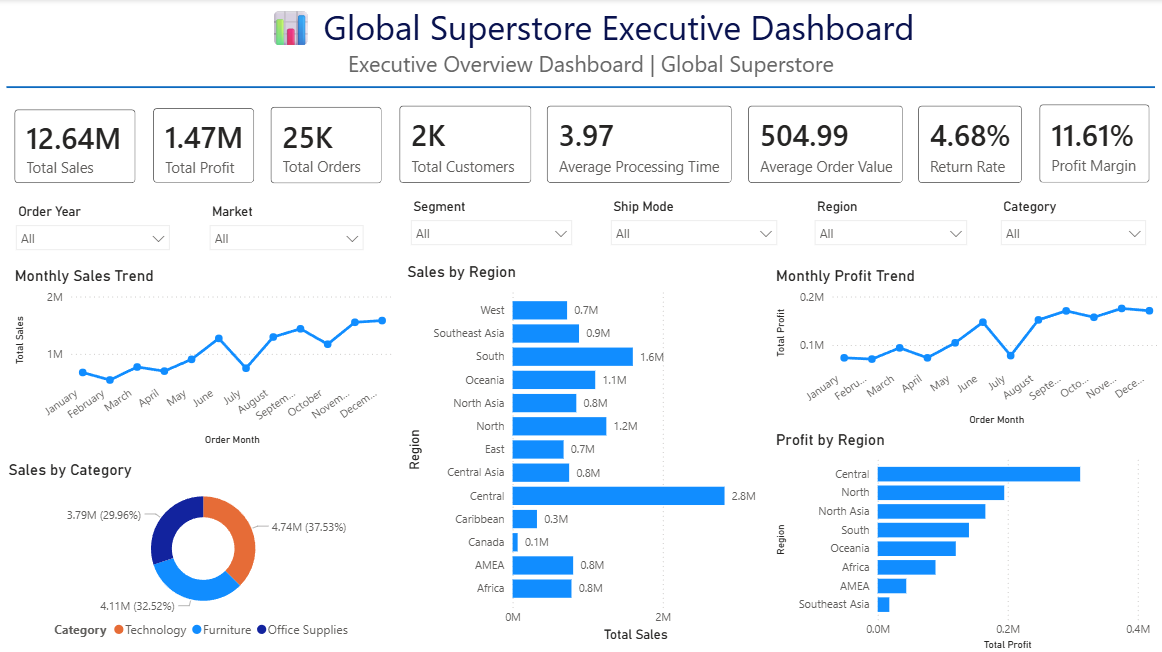

What the dashboard file says about the page in this screenshot:
{"tool":"powerbi","page":{"name":"Executive Dashboard","canvas":[1280,720],"ordinal":0},"visuals":[{"type":"textbox","box":[19.2,0,1261.1,96.1],"z":0},{"type":"shape","box":[8.2,22,1261.1,149.6],"z":1000},{"type":"cardVisual","fields":{"Data":["Orders.Total Sales"]},"box":[0,104.3,167.4,115.3],"z":2000},{"type":"cardVisual","fields":{"Data":["Orders.Total Profit"]},"box":[152.3,102.9,145.5,116.6],"z":3000},{"type":"cardVisual","fields":{"Data":["Orders.Total Orders"]},"box":[281.3,101.5,156.4,118],"z":4000},{"type":"cardVisual","fields":{"Data":["Orders.Total Customers"]},"box":[422.6,100.2,179.8,119.4],"z":5000},{"type":"cardVisual","fields":{"Data":["Orders.Profit Margin"]},"box":[1125.2,98.8,155.1,120.8],"z":6000},{"type":"cardVisual","fields":{"Data":["Orders.Average Order Value"]},"box":[805.5,100.2,204.5,119.4],"z":7000},{"type":"cardVisual","fields":{"Data":["Orders.Return Rate"]},"box":[992.1,100.2,148.2,119.4],"z":8000},{"type":"cardVisual","fields":{"Data":["Orders.Average Processing Time"]},"box":[584.6,100.2,237.4,119.4],"z":9000},{"type":"slicer","fields":{"Values":["Orders.Order Year"]},"box":[8.2,219.6,189.4,75.5],"z":10000},{"type":"slicer","fields":{"Values":["Orders.Market"]},"box":[220.9,219.6,189.4,74.1],"z":11000},{"type":"slicer","fields":{"Values":["Orders.Region"]},"box":[885.1,214.1,188,81],"z":12000},{"type":"slicer","fields":{"Values":["Orders.Segment"]},"box":[441.9,214.1,197.6,75.5],"z":13000},{"type":"slicer","fields":{"Values":["Orders.Category"]},"box":[1089.5,214.1,179.8,81],"z":14000},{"type":"slicer","fields":{"Values":["Orders.Ship Mode"]},"box":[661.4,214.1,203.1,75.5],"z":15000},{"type":"lineChart","title":"Monthly Sales Trend","fields":{"Category":["Orders.Order Month"],"Y":["Orders.Total Sales"]},"box":[12.3,293.7,425.4,201.7],"z":16000},{"type":"lineChart","title":"Monthly Profit Trend","fields":{"Category":["Orders.Order Month"],"Y":["Orders.Total Profit"]},"box":[848,293.7,432.2,179.8],"z":17000},{"type":"clusteredBarChart","title":"Sales by Region","fields":{"Category":["Orders.Region"],"Y":["Orders.Total Sales"]},"box":[443.2,289.5,404.8,421.3],"z":18000},{"type":"clusteredBarChart","title":"Profit by Region","fields":{"Category":["Orders.Region"],"Y":["Orders.Total Profit"]},"box":[848,473.4,421.3,247],"z":19000},{"type":"donutChart","title":"Sales by Category","fields":{"Category":["Orders.Category"],"Y":["Orders.Total Sales"]},"box":[5.5,506.3,437.7,204.5],"z":20000}]}

Visuals, with their boxes in screenshot pixels (x1, y1, x2, y2), scaled from the page's 1280x720 canvas onto the 1162x652 screenshot:
textbox: 17,0,1161,87
shape: 7,20,1152,155
cardVisual - Orders.Total Sales: 0,94,152,199
cardVisual - Orders.Total Profit: 138,93,270,199
cardVisual - Orders.Total Orders: 255,92,397,199
cardVisual - Orders.Total Customers: 384,91,547,199
cardVisual - Orders.Profit Margin: 1021,89,1161,199
cardVisual - Orders.Average Order Value: 731,91,917,199
cardVisual - Orders.Return Rate: 901,91,1035,199
cardVisual - Orders.Average Processing Time: 531,91,746,199
slicer - Orders.Order Year: 7,199,179,267
slicer - Orders.Market: 201,199,372,266
slicer - Orders.Region: 804,194,974,267
slicer - Orders.Segment: 401,194,581,262
slicer - Orders.Category: 989,194,1152,267
slicer - Orders.Ship Mode: 600,194,785,262
"Monthly Sales Trend" lineChart: 11,266,397,449
"Monthly Profit Trend" lineChart: 770,266,1161,429
"Sales by Region" clusteredBarChart: 402,262,770,644
"Profit by Region" clusteredBarChart: 770,429,1152,651
"Sales by Category" donutChart: 5,458,402,644
